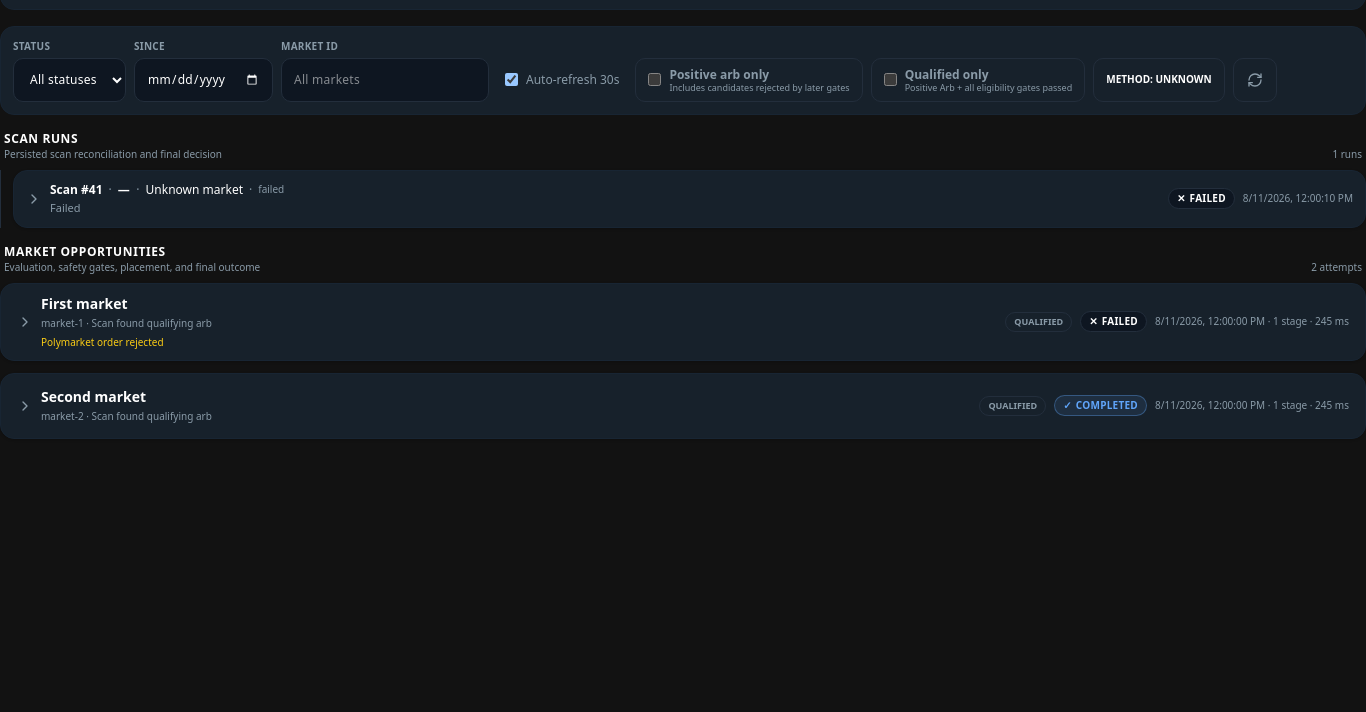
Test: BotActionLogs placement filters › keeps scan and market expansion independent
Expected: the text "First market" is shown, x1=41 y1=294 x2=128 y2=313
Click the button with aria-label "Expand scan 41,": (69, 189) x1=14 y1=171 x2=1365 y2=227
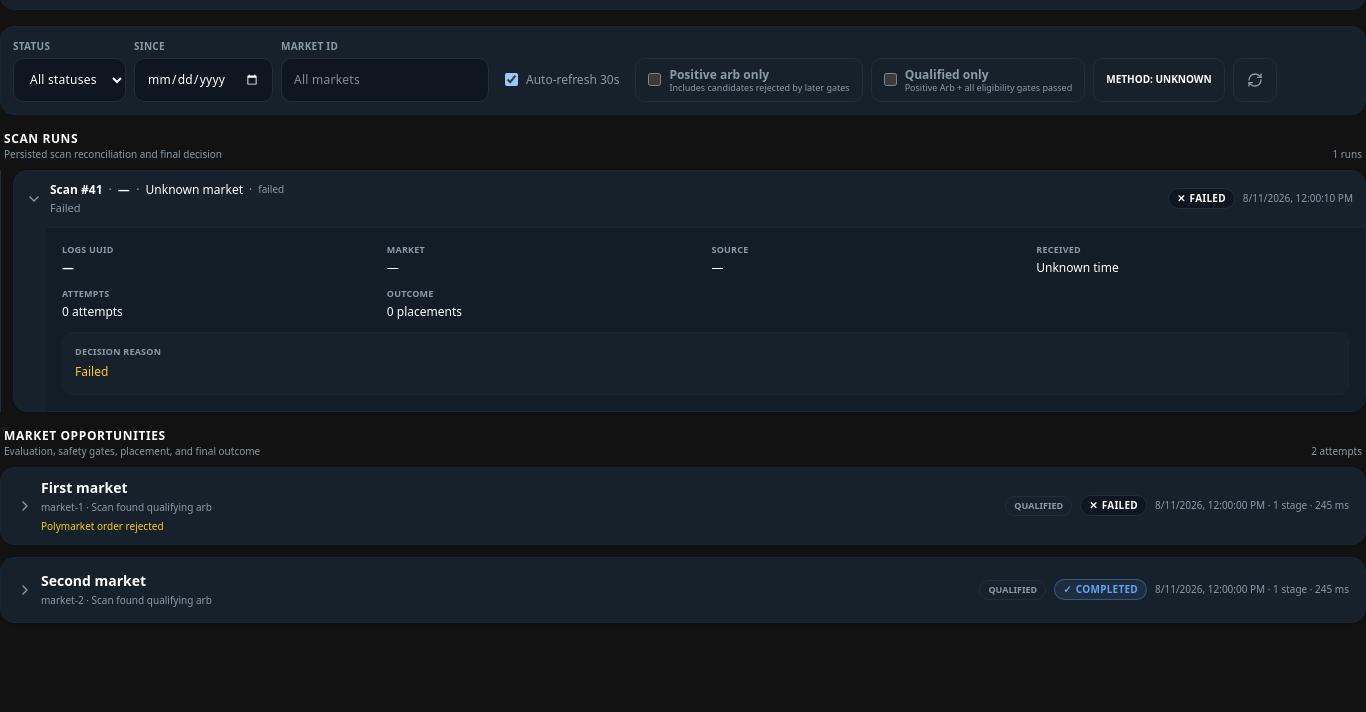
Click the button with aria-label "Expand attempt for First market,": (84, 487) x1=1 y1=468 x2=1365 y2=544
(page scrolled)
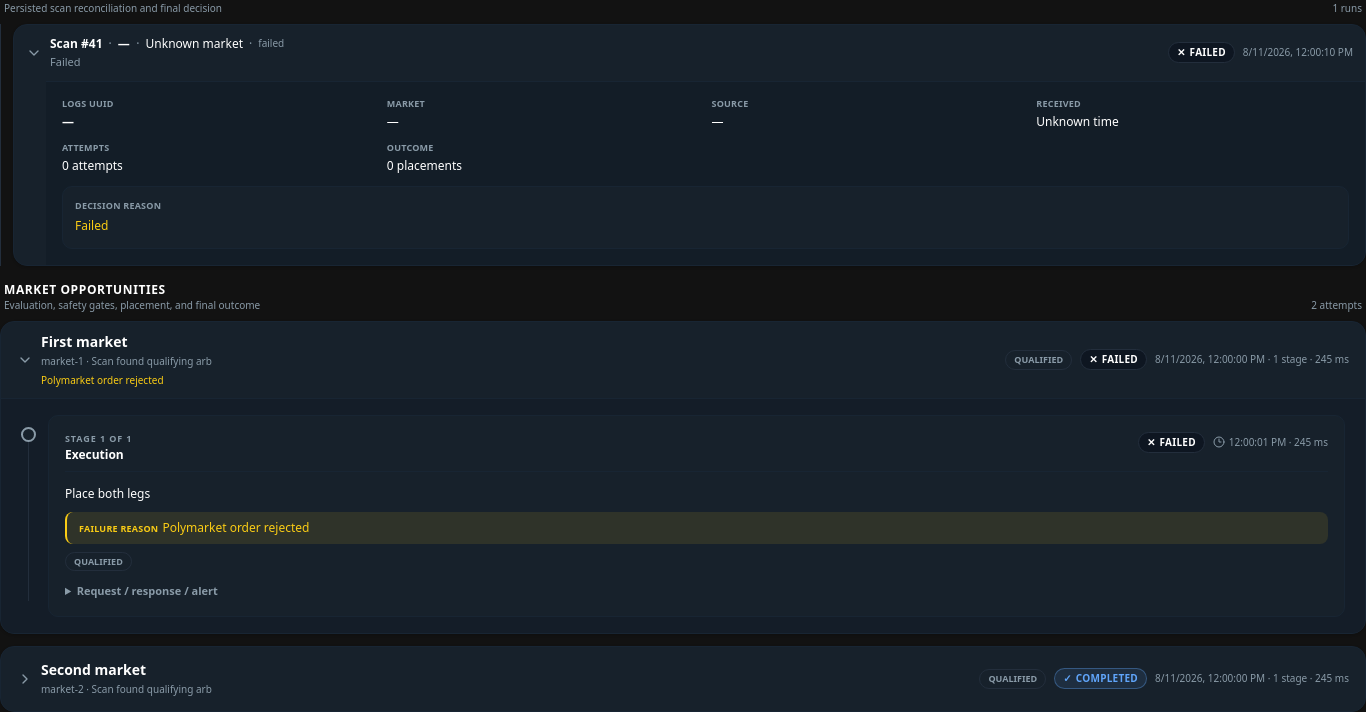
Click the button with aria-label "Expand attempt for Second market,": (94, 670) x1=1 y1=647 x2=1365 y2=711
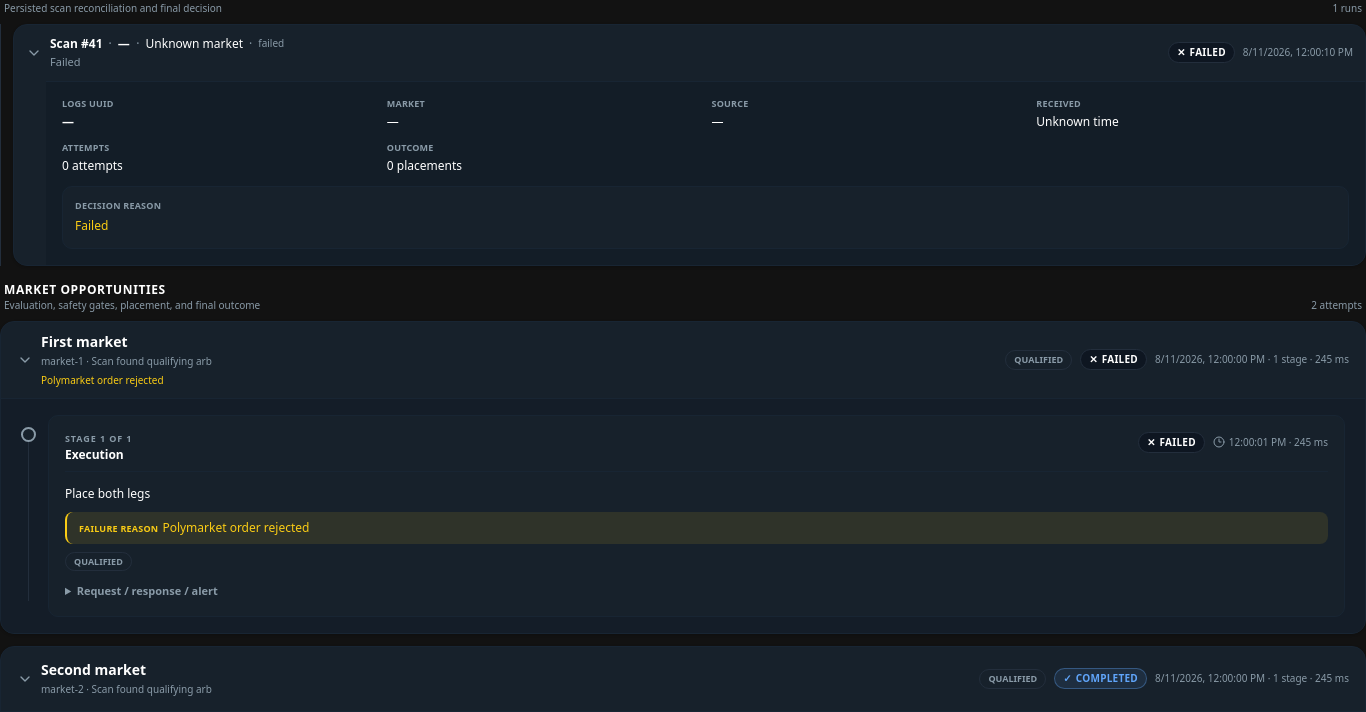
Result: the element with test id "scan-details-41" is shown at x1=46 y1=81 x2=1365 y2=265
Result: the element with test id "attempt-details-trade-1" is shown at x1=1 y1=398 x2=1365 y2=633
Click the button with aria-label "Collapse attempt for First market,": (84, 341) x1=1 y1=322 x2=1365 y2=398
(page scrolled)
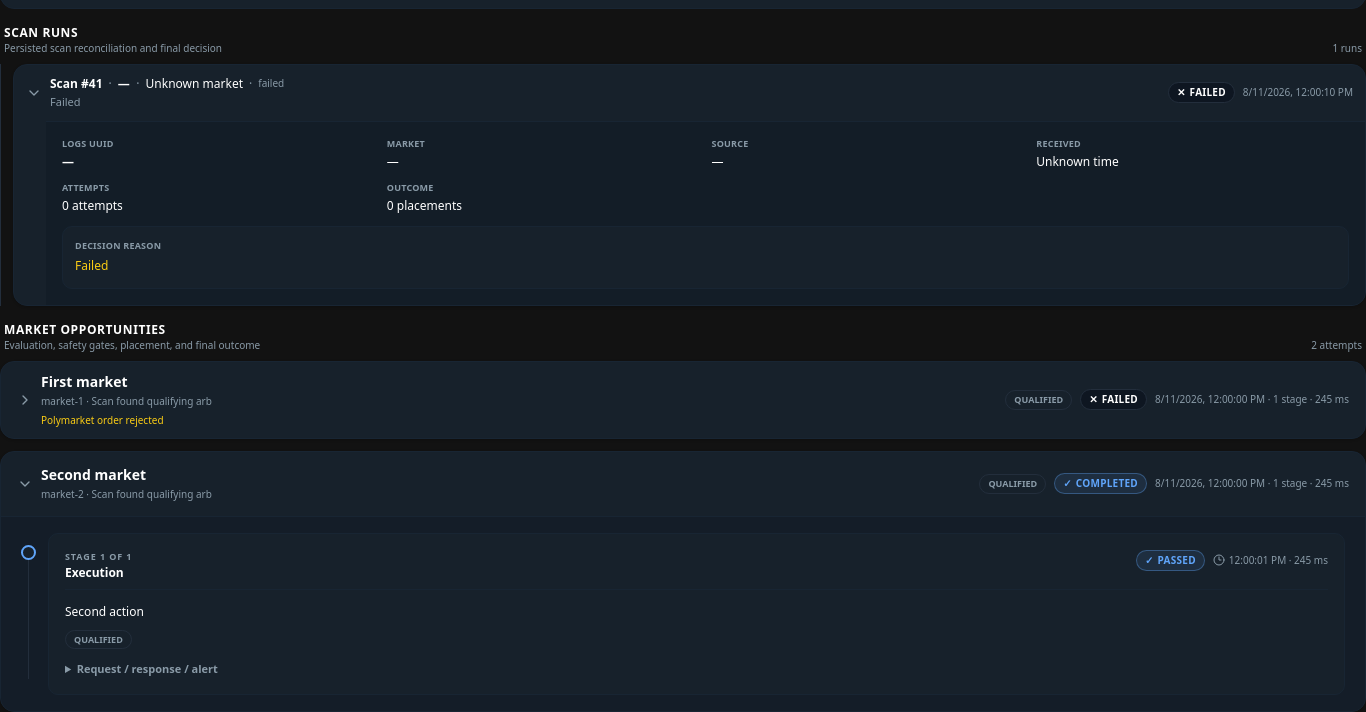
Result: the element with test id "attempt-details-trade-2" is shown at x1=1 y1=516 x2=1365 y2=711
Result: the element with test id "scan-details-41" is shown at x1=46 y1=121 x2=1365 y2=305
Result: the element with test id "attempt-details-trade-1" is gone
